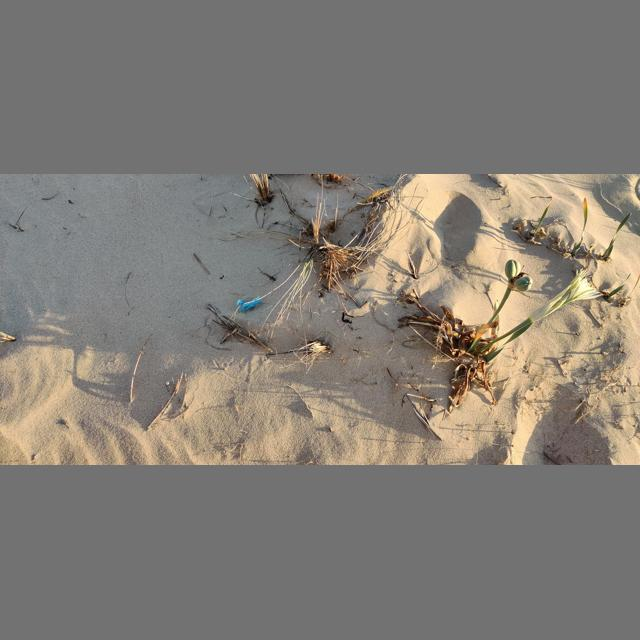litter: (238, 298, 263, 314)
